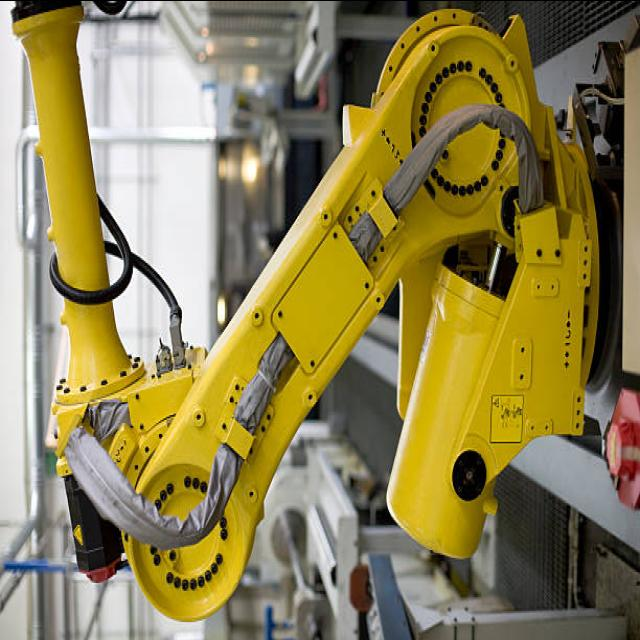Robotic-arm: (1, 1, 640, 630)
